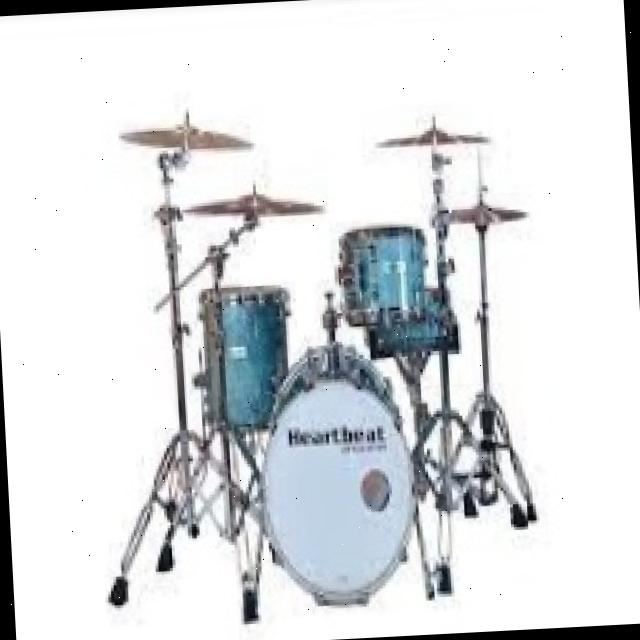drums: (76, 92, 550, 629)
